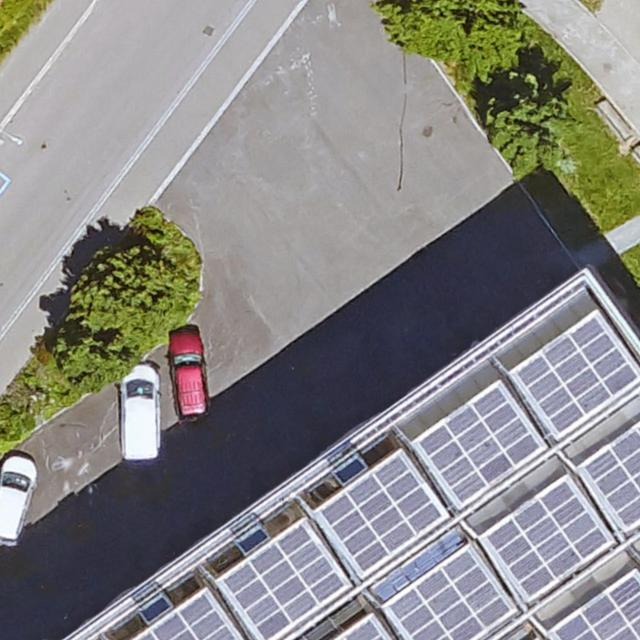tree: (79, 246, 189, 334), (492, 96, 567, 172), (50, 315, 129, 386), (383, 0, 477, 57), (456, 20, 520, 79)
